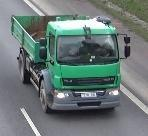Truck: (11, 15, 131, 114)
